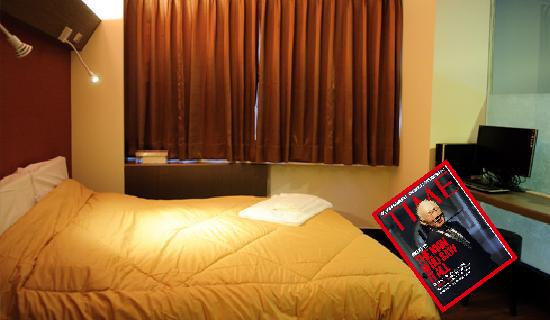times: (369, 157, 518, 312)
